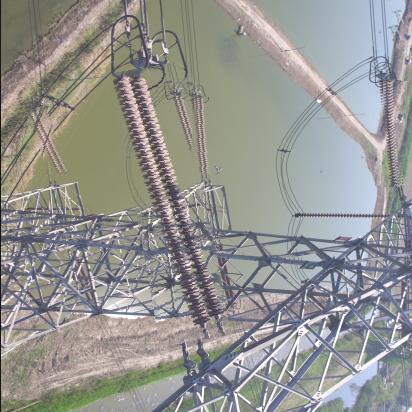insulator: (124, 64, 219, 346), (377, 81, 408, 189), (33, 107, 64, 181), (190, 98, 214, 181)
